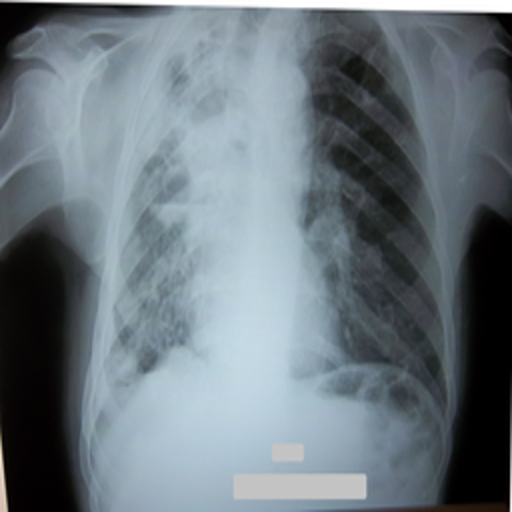TB: (128, 26, 223, 259)
